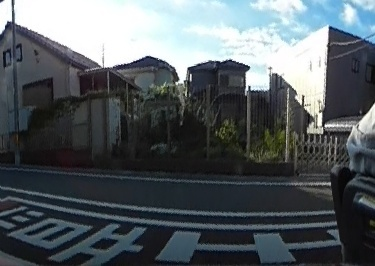person: (361, 0, 375, 234)
